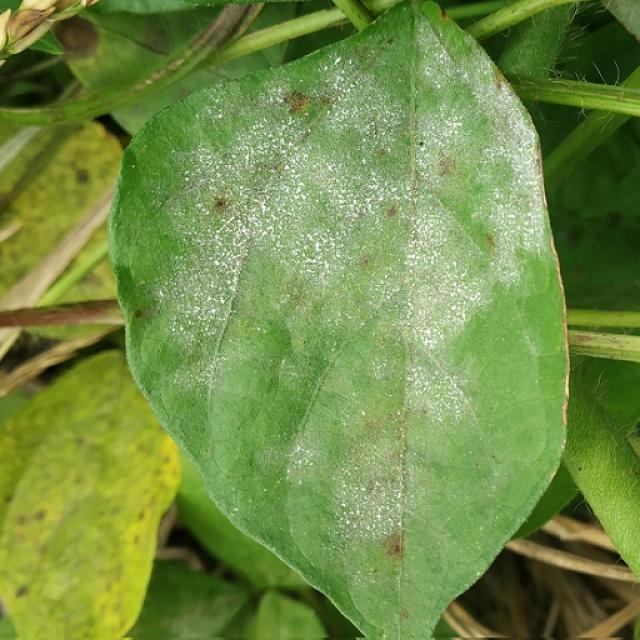Blackgram: (111, 5, 565, 639)
Powdery_Mildew: (434, 97, 540, 281), (236, 99, 345, 204), (396, 212, 478, 331), (305, 141, 398, 245), (333, 440, 402, 537), (293, 204, 374, 286), (408, 347, 475, 429), (174, 250, 235, 337), (233, 186, 282, 244), (333, 56, 343, 66), (344, 518, 352, 526), (359, 485, 366, 492), (340, 501, 347, 508), (232, 505, 239, 512), (361, 409, 367, 416)
